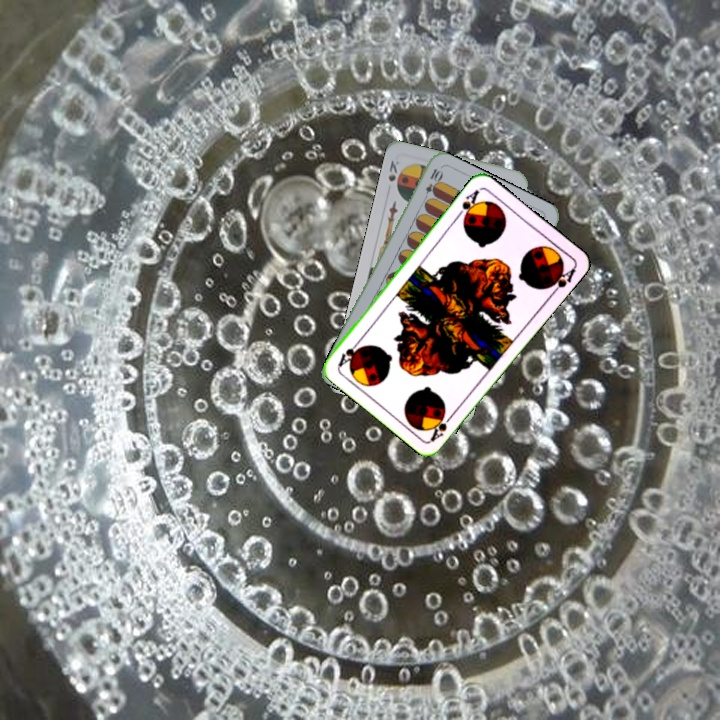E10: (419, 164, 444, 204)
SA: (426, 407, 457, 444), (453, 185, 482, 223)
SK: (384, 156, 402, 184)
